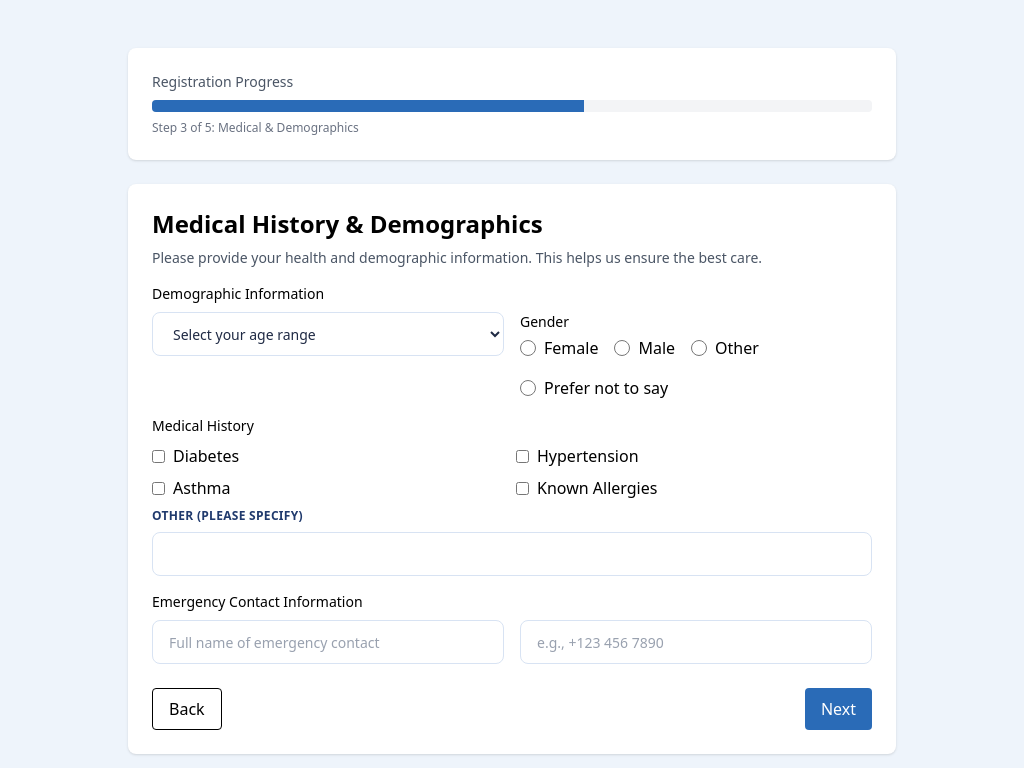
Test: Step3MedicalInfo › shows error when registrationId missing on submit
Click the button "Next".
click(838, 709)  # box [805,688,872,730]
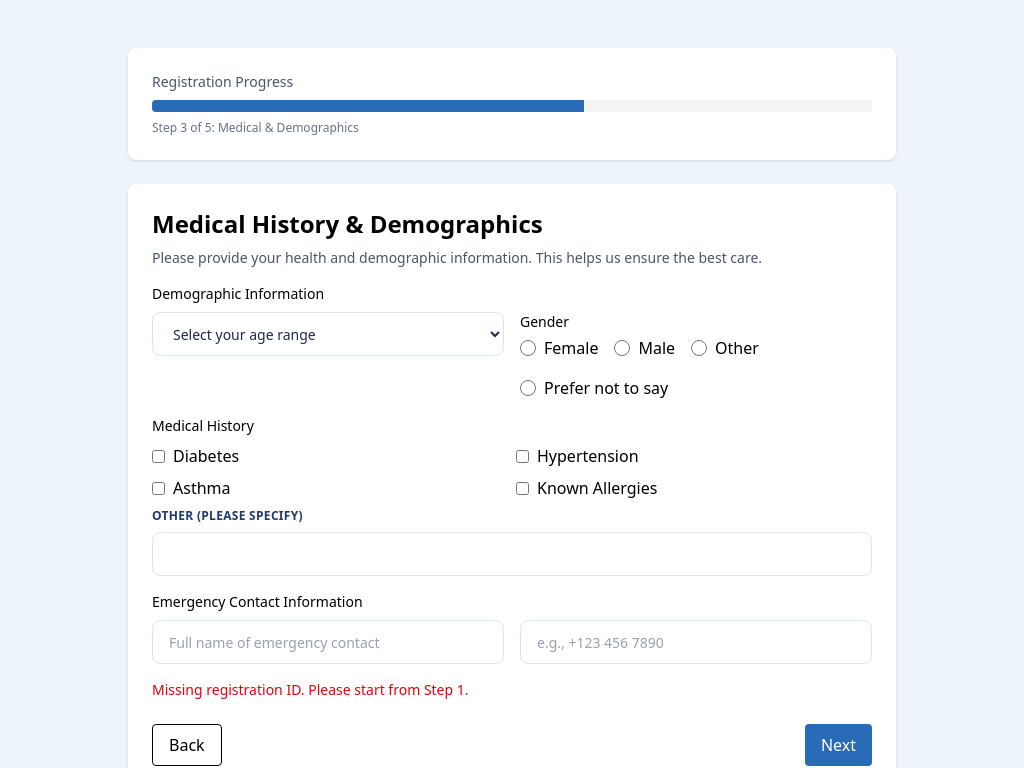
Now the text "Missing registration ID. Please start from Step 1." is shown, box [152,680,468,699]
